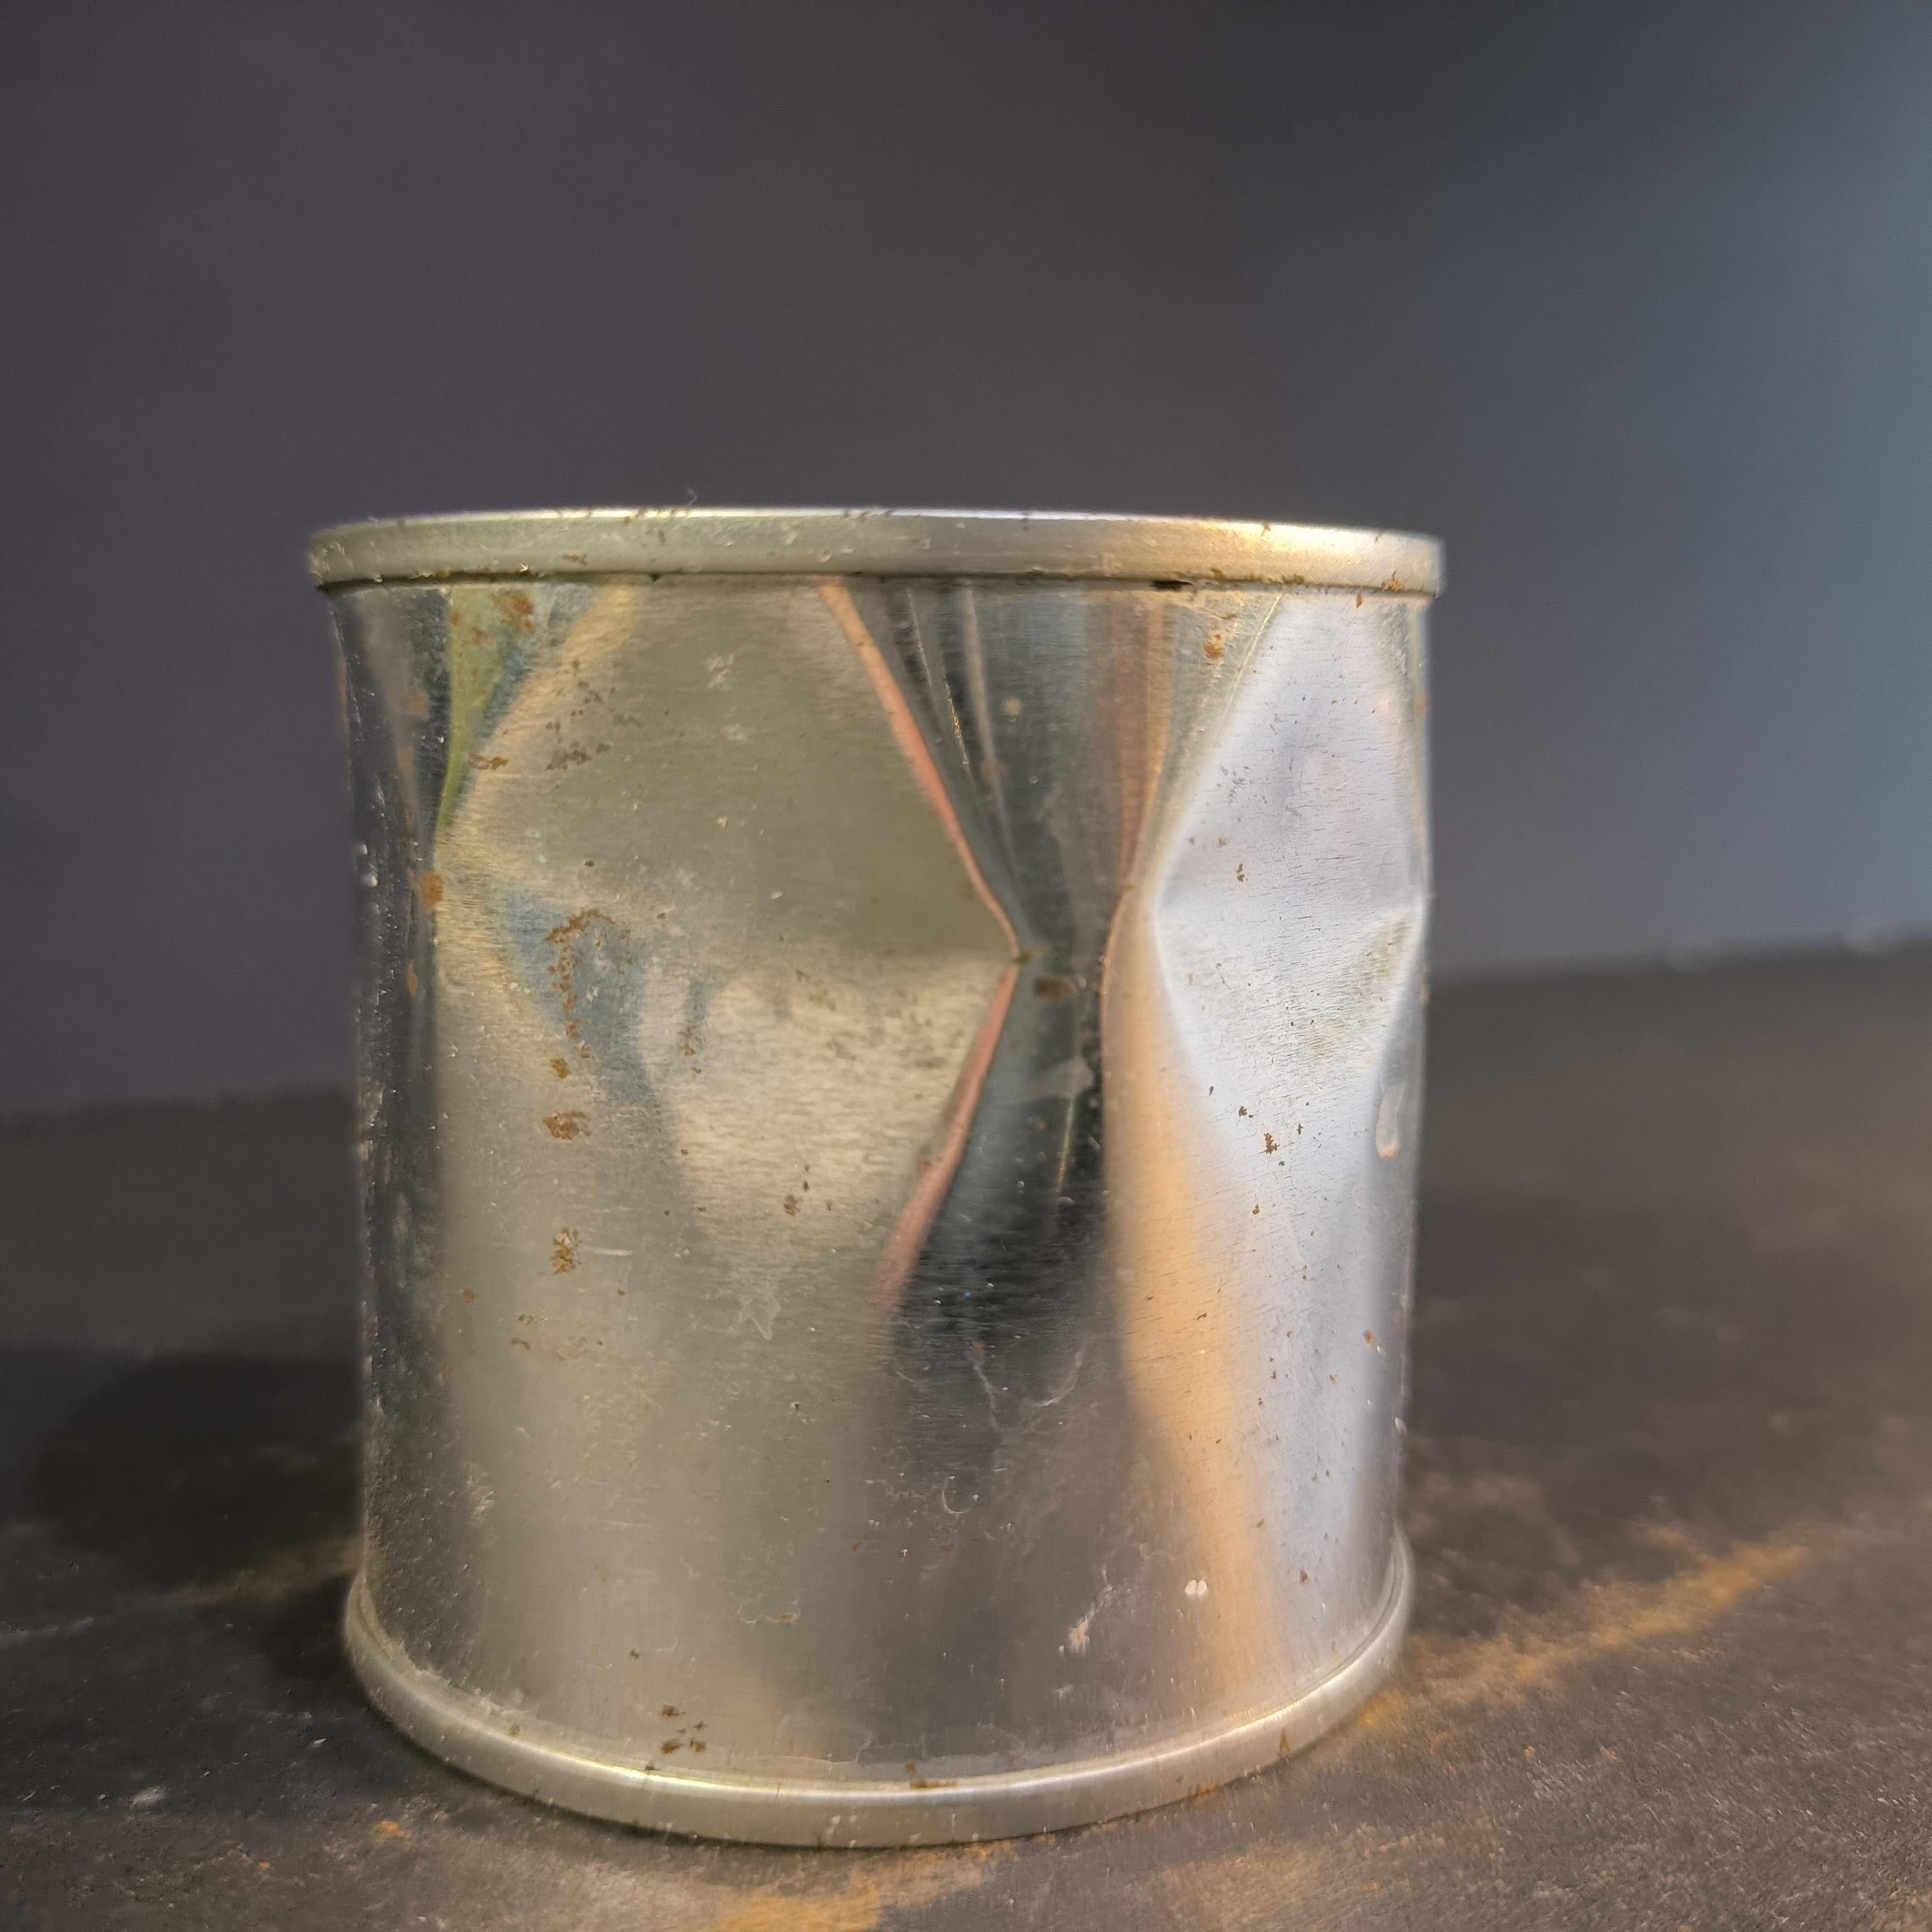Dented: (283, 485, 1468, 1852)
